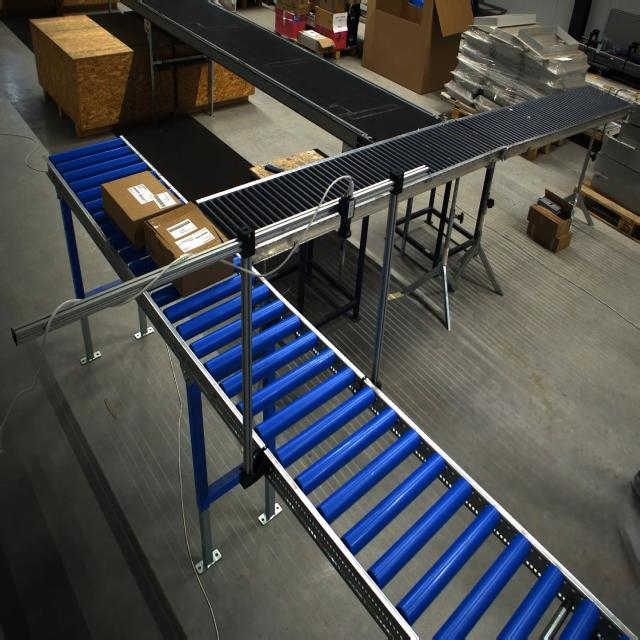box: (143, 202, 233, 294), (100, 171, 182, 251)
